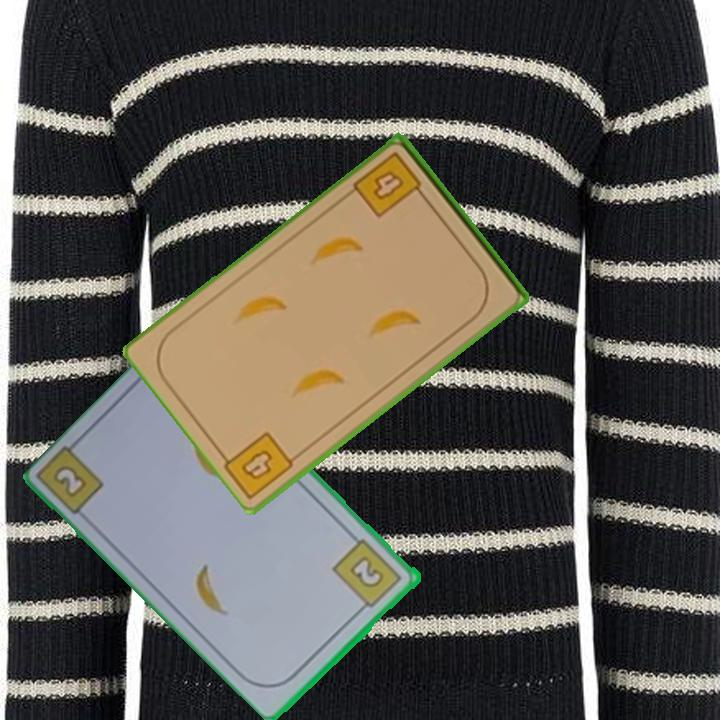2b: (329, 535, 405, 615), (50, 461, 91, 501)
4b: (350, 148, 430, 221), (237, 446, 276, 484)
